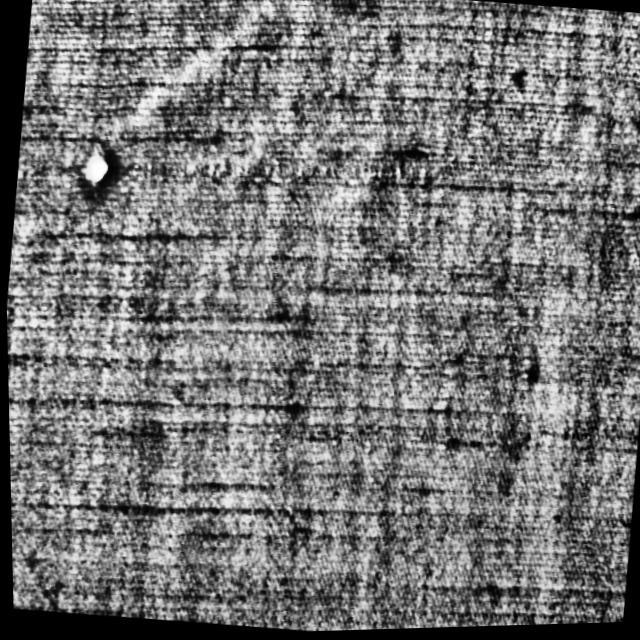Hole: (71, 135, 122, 220)
